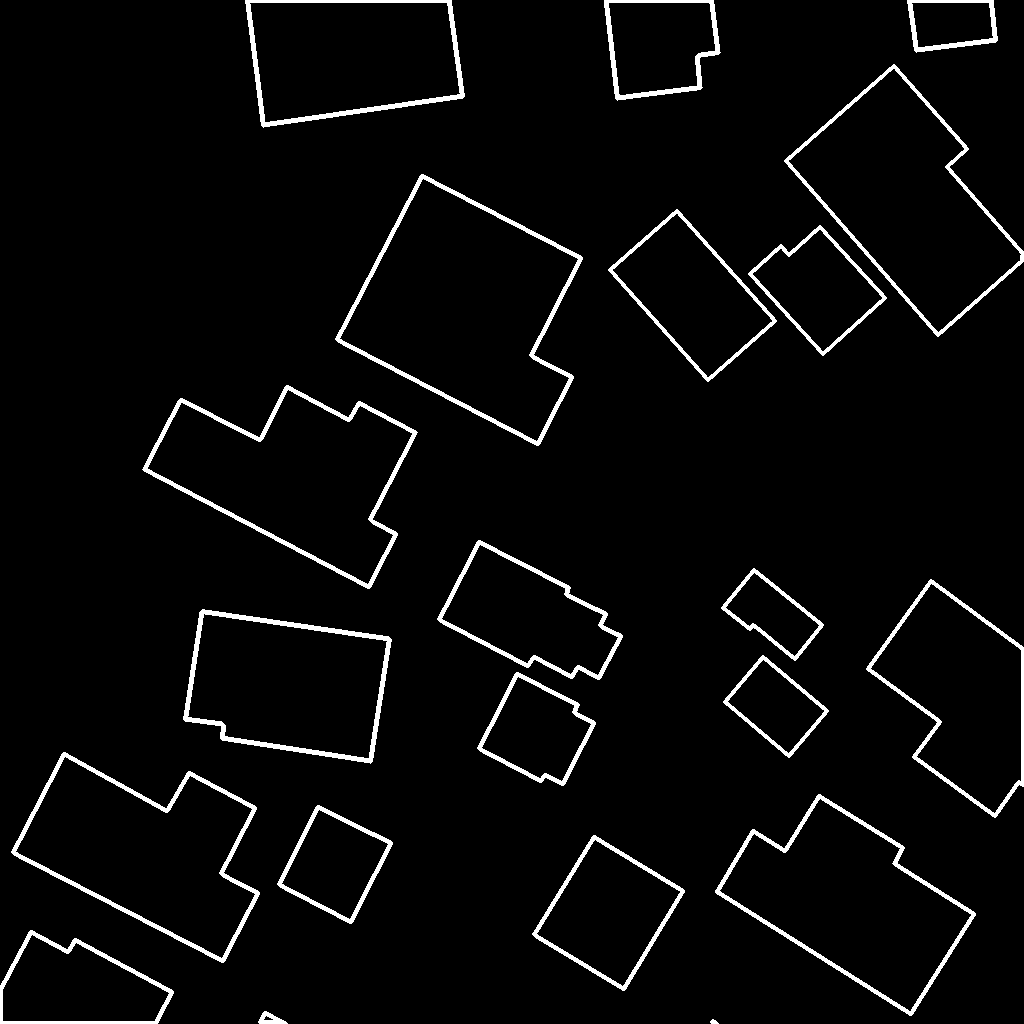building: (337, 176, 582, 445), (786, 66, 1024, 336), (717, 796, 975, 1015), (144, 387, 417, 588), (13, 754, 259, 962), (868, 581, 1024, 817), (185, 611, 391, 762), (610, 211, 776, 381), (247, 0, 464, 126), (439, 542, 622, 679), (534, 837, 684, 990), (750, 227, 886, 355), (0, 932, 173, 1024), (279, 807, 392, 923), (479, 674, 595, 785), (606, 0, 719, 99), (725, 657, 828, 757), (723, 570, 823, 660), (909, 0, 997, 51), (260, 1013, 287, 1024), (712, 1021, 718, 1024)
